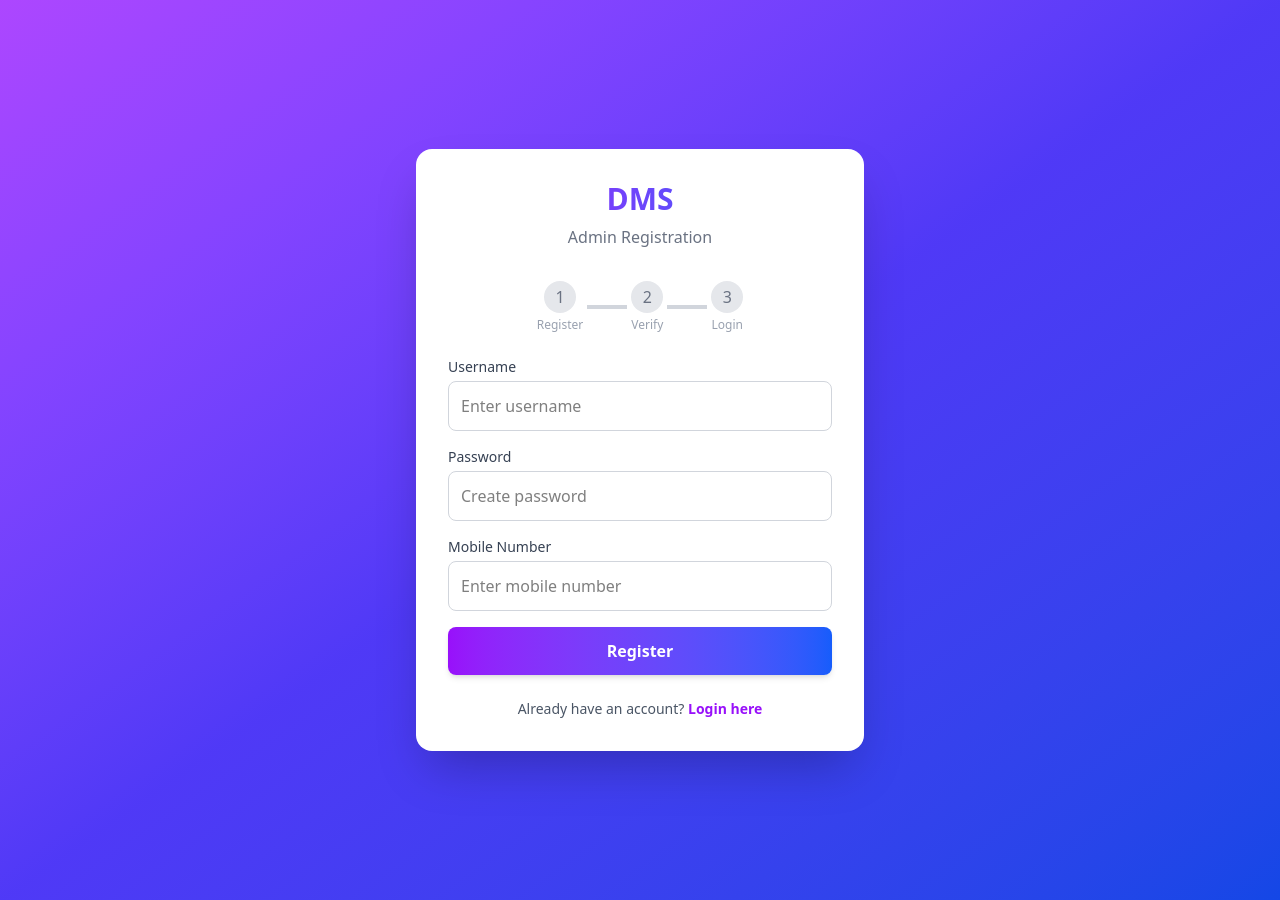
Test case: Login Component › shows error if username is empty on register
Click the button "Register" at x=640, y=651, box [448, 627, 832, 675]
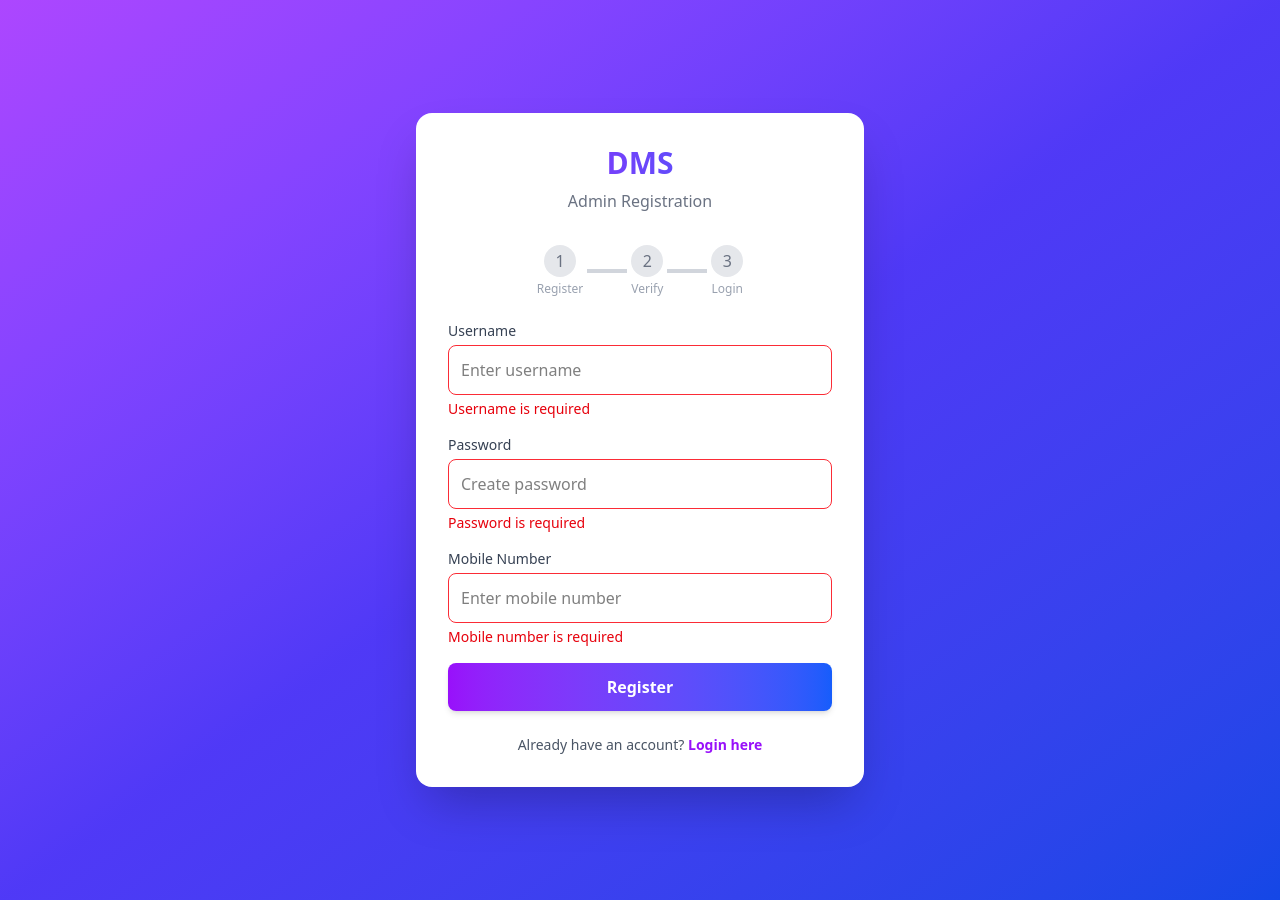
Check: the text "Username is required" is shown, box [448, 399, 590, 418]
